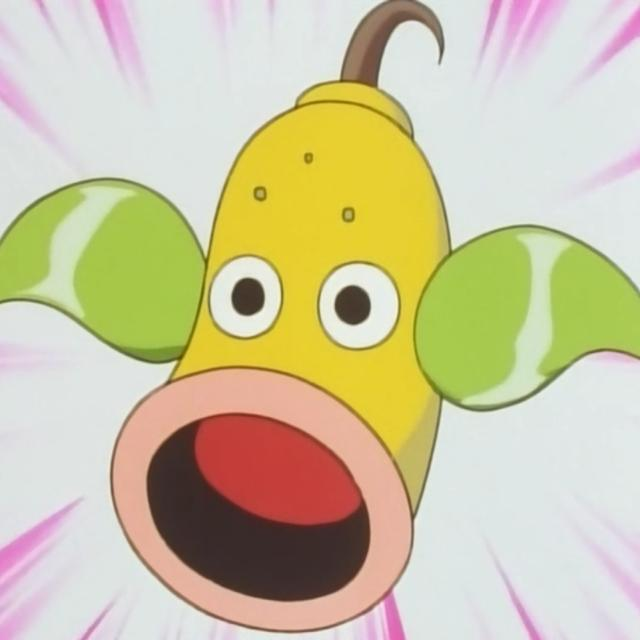Weepinbell: (105, 8, 462, 624)
